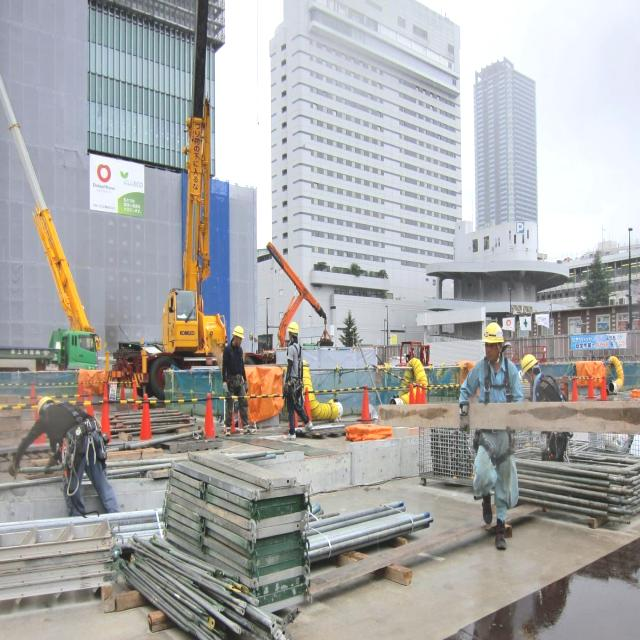face_nomask: (483, 342, 502, 362)
hand_glove: (456, 403, 476, 438), (8, 450, 22, 480), (220, 378, 230, 397), (241, 378, 250, 397)
head_helmet: (482, 320, 507, 343), (35, 395, 55, 415), (284, 319, 302, 333), (230, 325, 246, 338)
person: (23, 392, 121, 514), (473, 326, 519, 553), (281, 320, 319, 442), (221, 318, 255, 436)
shoes: (478, 484, 494, 526), (492, 519, 510, 553)
